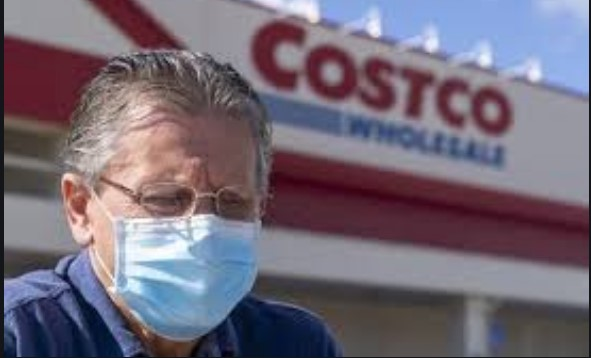face_with_mask: (58, 53, 270, 346)
